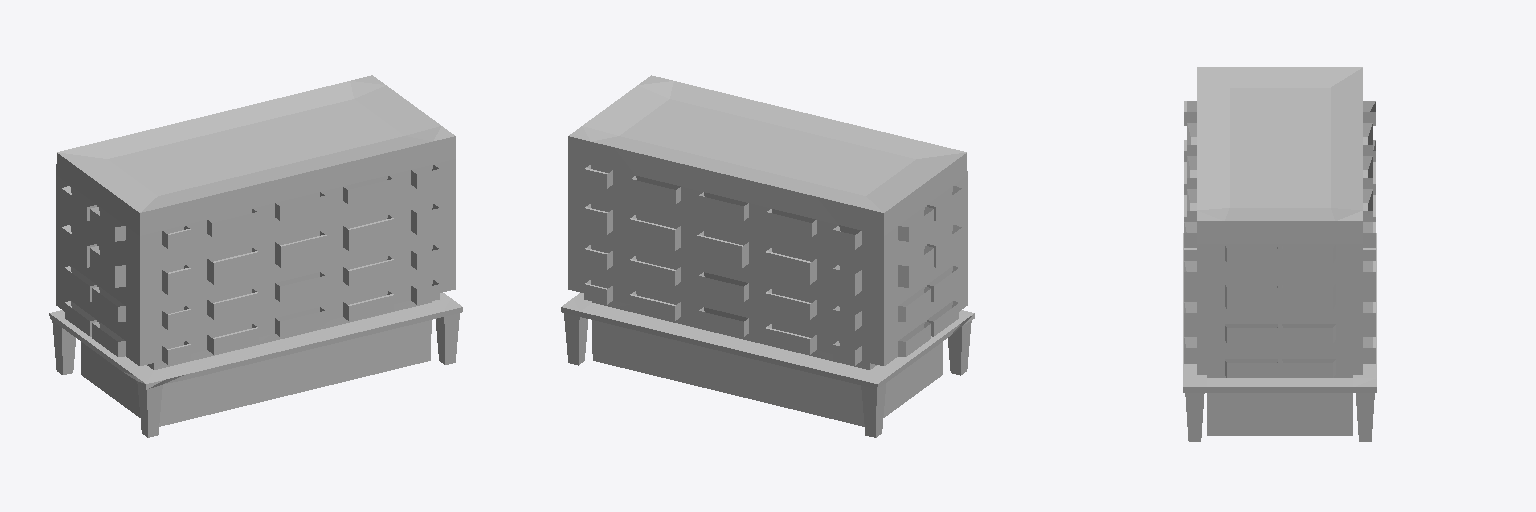
File: appartment_buildings.obj
3 renders of one model, left to right at view 1: azimuth 30°, elevation 25°; view 2: azimuth 150°, elevation 25°; view 3: azimuth 270°, elevation 25°, orthographic.
Parts seen in each view (by area): view 1: pCube5; view 2: pCube5; view 3: pCube5.
Boxes of the visible parts, box(x1,y1,x2,y2) form: pCube5: box(49, 75, 462, 437); pCube5: box(561, 75, 974, 437); pCube5: box(1183, 67, 1376, 441).
Size of the model in its own units: 2976 by 1899 by 1497.